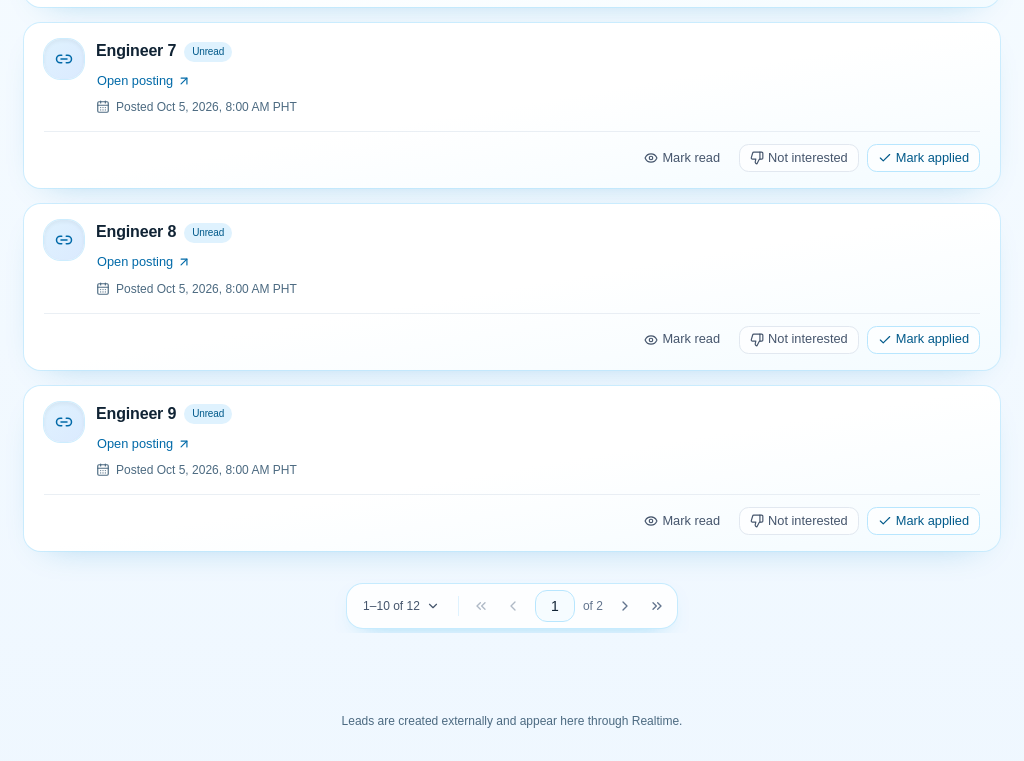
Test: DashboardView job tracking › searches beyond the visible page and returns to page one when cleared
This screenshot has width=1024, height=761.
(page scrolled)
Expected: the element "Hidden Target" is not shown
Click the button named "Next page".
click(625, 606)  # box [611,592,639,620]
(page scrolled)
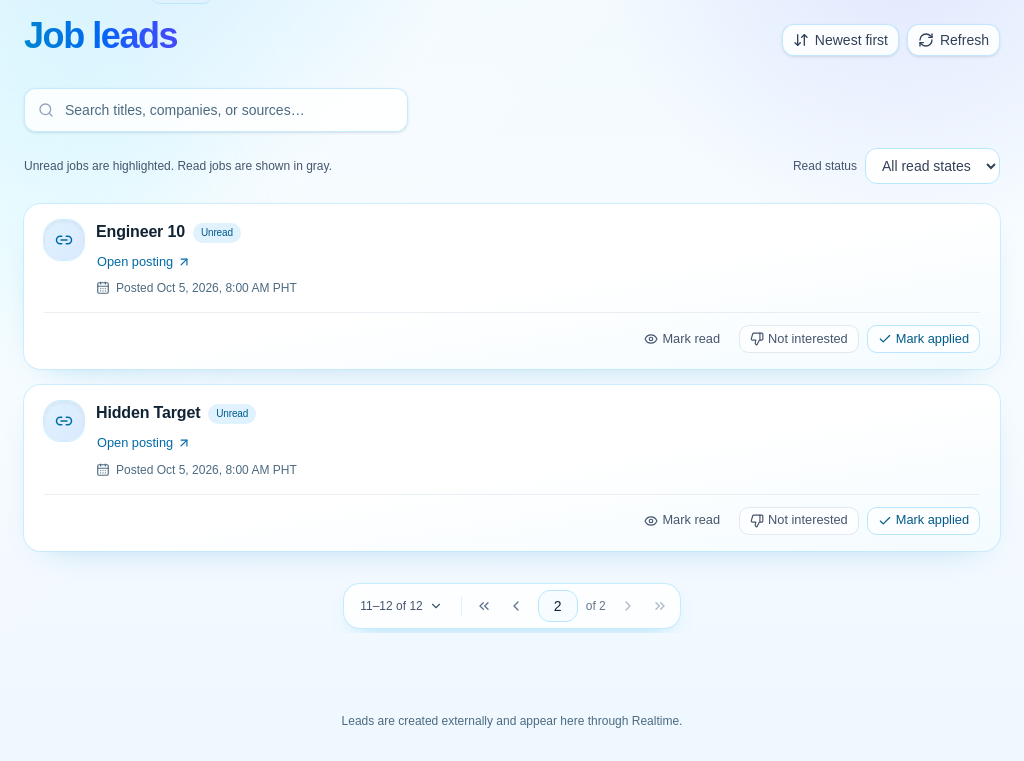
Expected: the element "Hidden Target" is shown, [24,385,1000,551]
Type "hidden target" into the search field named "Search jobs".
click(216, 110); type("hidden target")  # box [24,88,408,132]
(page scrolled)
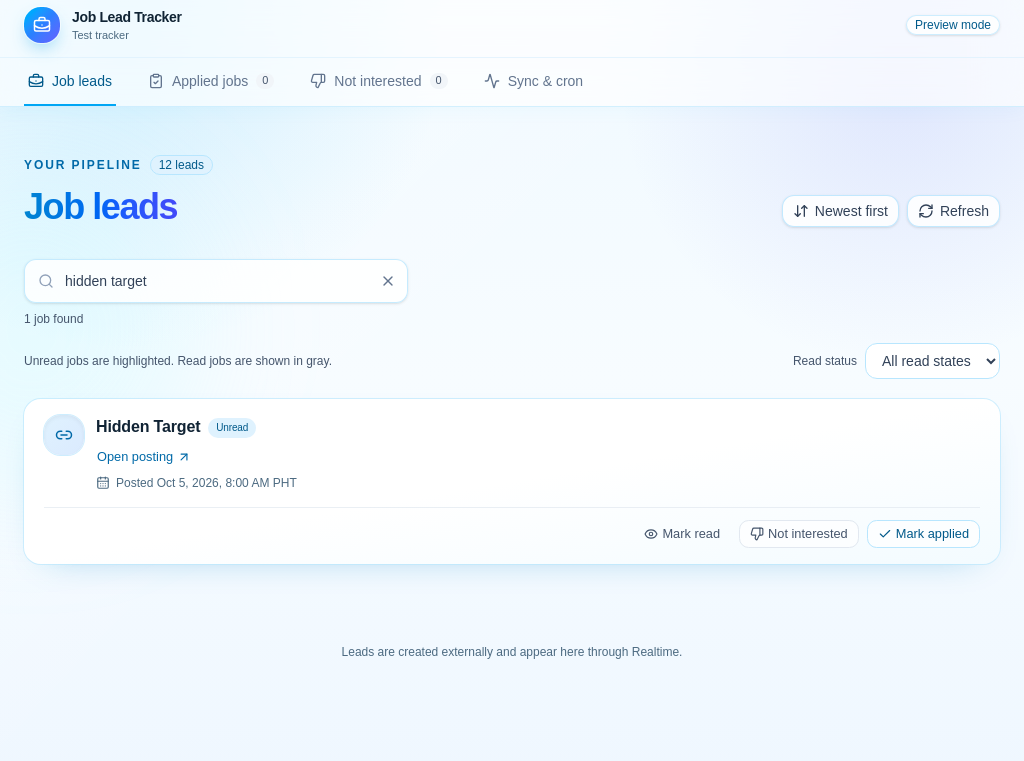
Expected: the element "Hidden Target" is shown, [24,399,1000,564]
Click the button named "Clear job search".
click(388, 281)  # box [374,267,402,295]
(page scrolled)
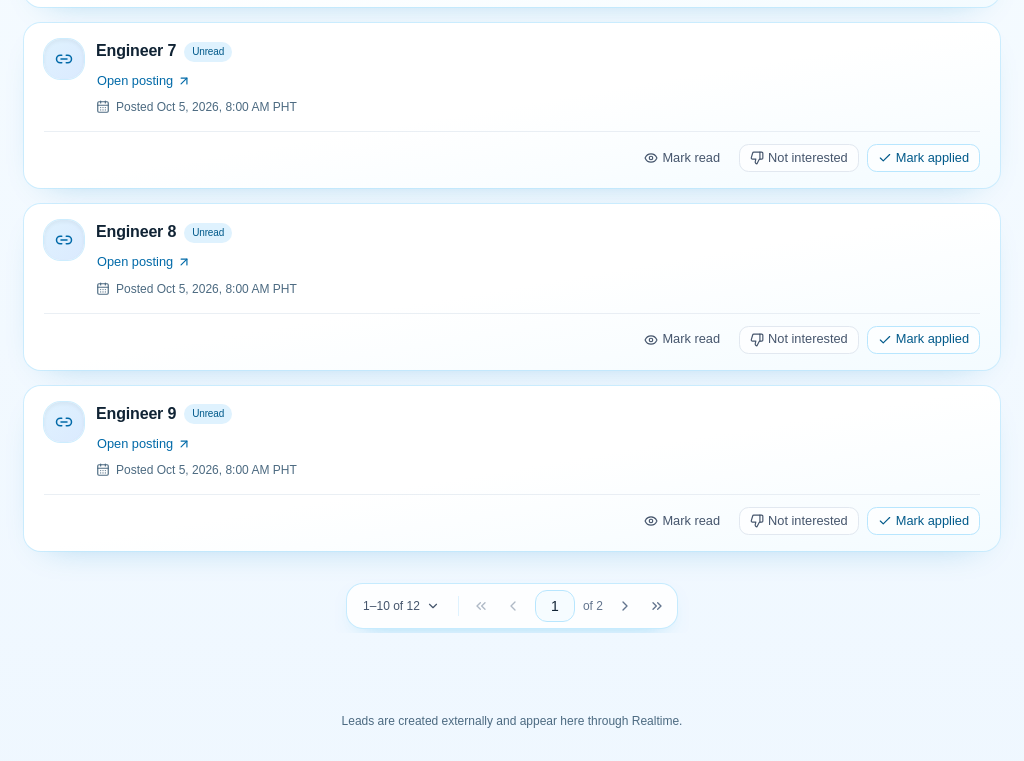
Expected: the text "Hidden Target" is gone
Expected: the number field named "Current page" holds "1", [535,590,575,622]
